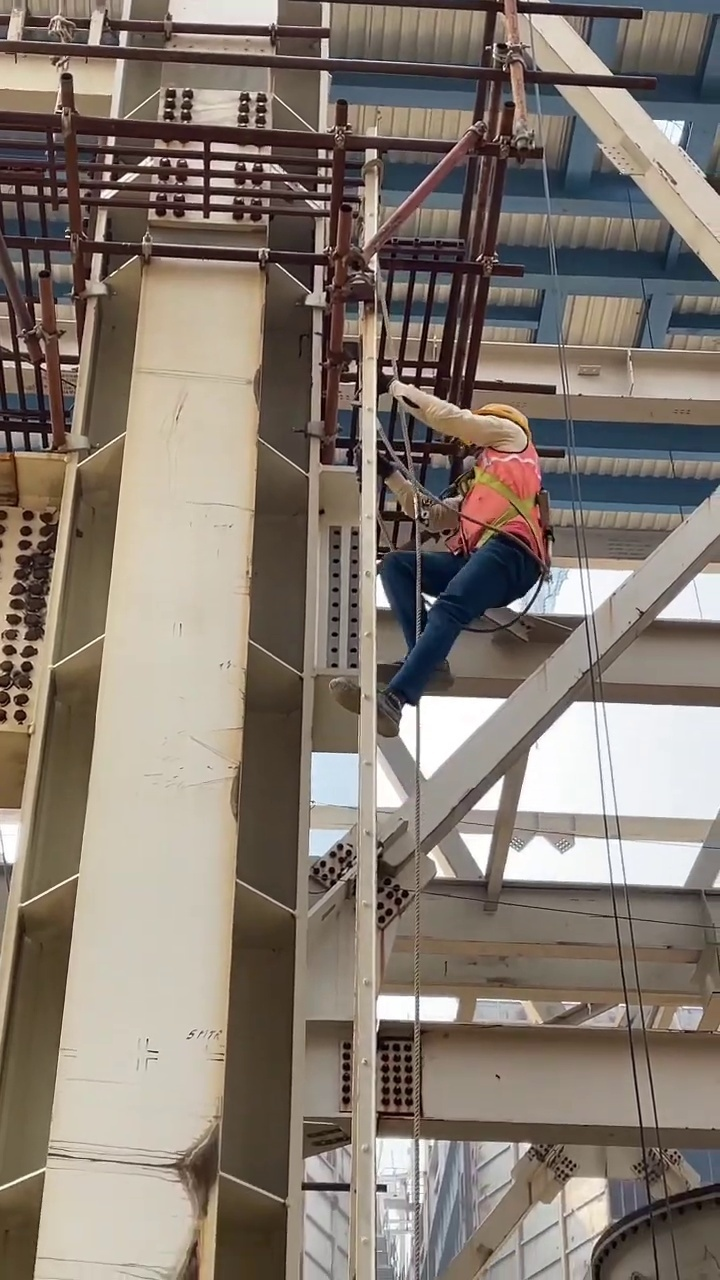Helmet: (478, 403, 531, 427)
Person: (325, 403, 553, 743)
Safety_Harness: (446, 444, 552, 570)
Safety_shoes: (327, 673, 403, 741), (404, 654, 449, 690)
